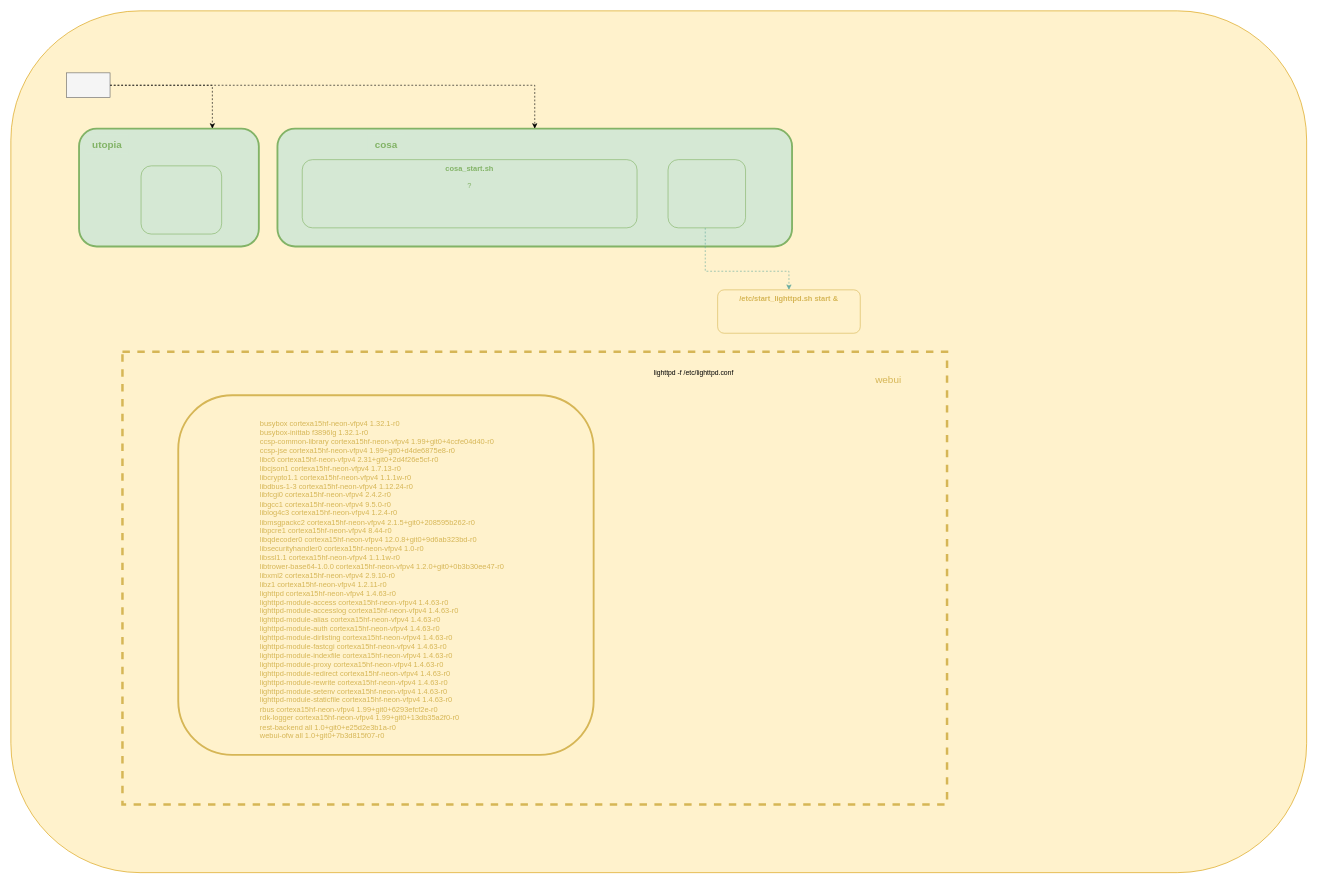
The diagram is 1318 pixels wide and 884 high, and some of its shapes have lost their labels. Here are the shapes that lost their labels. From the top down, the centre of each, then its label:
point 88,85: init.d
point 181,199: utopia_init.sh ?
point 706,193: cosa_start_rem.sh ?
